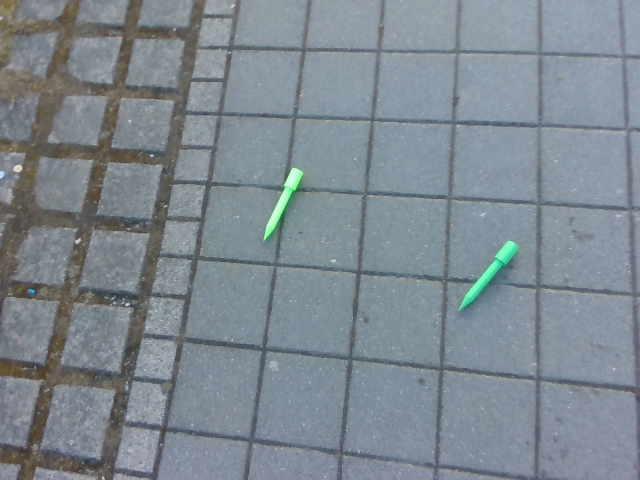Probe: (454, 236, 522, 319), (260, 162, 307, 246)
